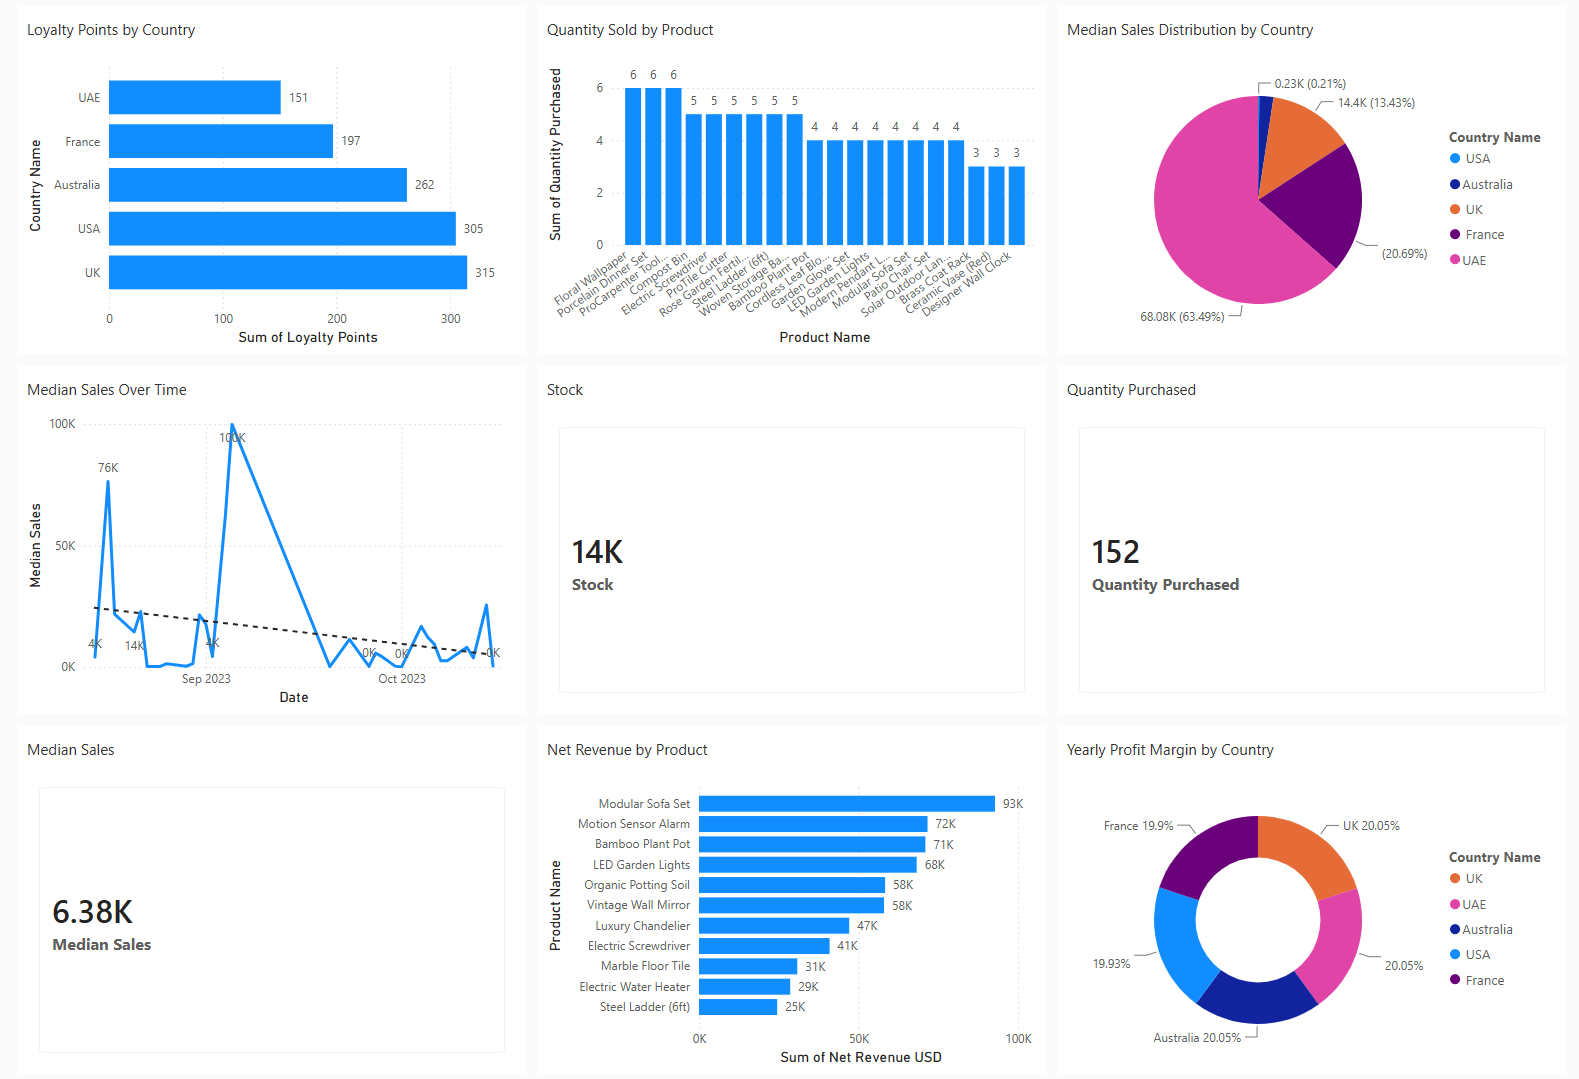

Layout of this report page (visuals, bound fields, positions):
{"tool":"powerbi","page":{"name":"Sales Overview","canvas":[1280,720],"ordinal":0},"visuals":[{"type":"clusteredBarChart","title":"Loyalty Points by Country","fields":{"Category":["Sales in USD.Country Name"],"Y":["Sum(Sales in USD. Loyalty Points)"]},"box":[0,157.8,649.3,281.1],"z":0},{"type":"clusteredColumnChart","title":"Quantity Sold by Product","fields":{"Category":["Sales in USD.Product Name"],"Y":["Sum(Sales in USD.Quantity Purchased)"]},"box":[659.2,157.8,621.2,281.1],"z":1000},{"type":"pieChart","title":"Median Sales Distribution by Country","fields":{"Category":["Sales in USD.Country Name"],"Y":["Sales in USD.Median Sales"]},"box":[10,438.9,649.3,281.1],"z":2000},{"type":"lineChart","title":"Median Sales Over Time","fields":{"Y":["Sales in USD.Median Sales"],"Category":["CalendarTable.Date"]},"box":[659.2,438.9,621.2,281.1],"z":3000},{"type":"cardVisual","fields":{"Data":["Sum(Sales in USD. Stock  )"]},"box":[0,0,324.6,157.8],"z":4000},{"type":"cardVisual","fields":{"Data":["Sum(Sales in USD.Quantity Purchased)"]},"box":[324.6,0,324.6,157.8],"z":5000},{"type":"cardVisual","fields":{"Data":["Sales in USD.Median Sales"]},"box":[640.2,0,330.1,157.8],"z":6000},{"type":"slicer","fields":{"Values":["Sales in USD.Country Name"]},"box":[970.3,0,310.1,157.8],"z":7000}]}

Visuals, with their boxes on the page's 1280x720 design canvas (x1, y1, x2, y2). These are canvas units, not pixel positions in the 1579x1079 screenshot, which may show the page scaled, cropped or inside an application window:
"Loyalty Points by Country" clusteredBarChart: 0:158:649:439
"Quantity Sold by Product" clusteredColumnChart: 659:158:1280:439
"Median Sales Distribution by Country" pieChart: 10:439:659:720
"Median Sales Over Time" lineChart: 659:439:1280:720
cardVisual - Sum(Sales in USD. Stock  ): 0:0:325:158
cardVisual - Sum(Sales in USD.Quantity Purchased): 325:0:649:158
cardVisual - Sales in USD.Median Sales: 640:0:970:158
slicer - Sales in USD.Country Name: 970:0:1280:158
